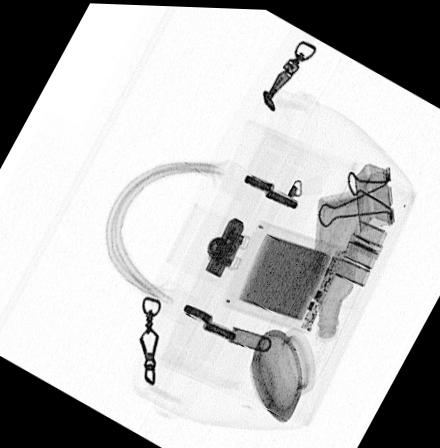Powerbank: (221, 217, 350, 334)
